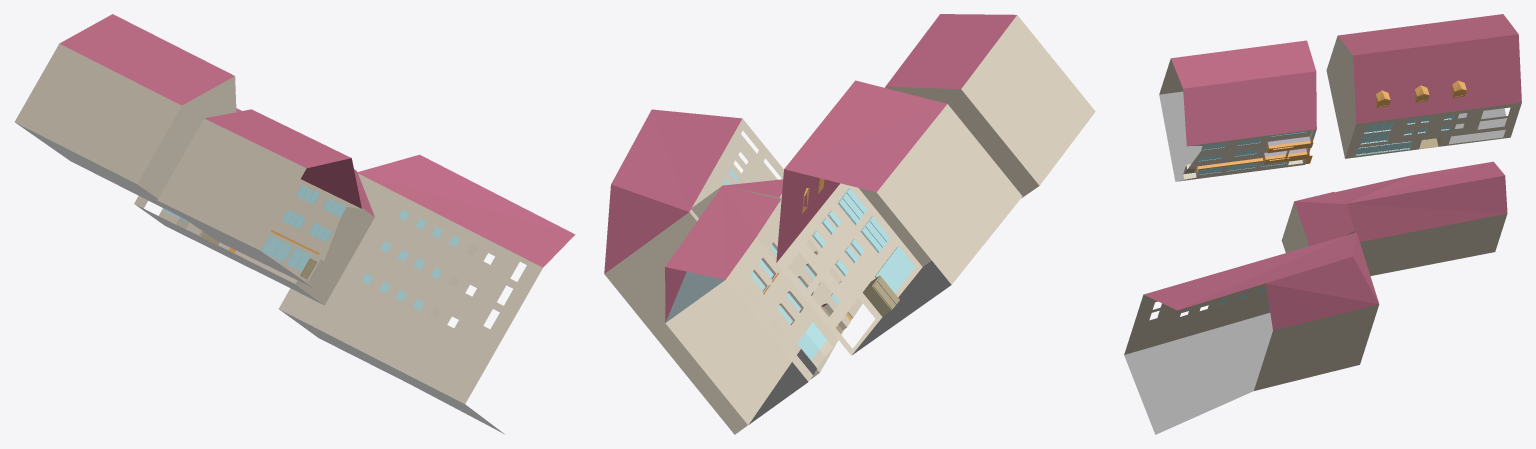
3 views of the same model, side by side, from view 1: azimuth 30°, elevation 25°; view 2: azimuth 150°, elevation 25°; view 3: azimuth 270°, elevation 25° (orthographic). The views are drawn at different scales.
Parts seen in each view (by area): view 1: mesh; view 2: mesh; view 3: mesh.
Boxes of the visible parts, x1,y1,x2,y2 form: mesh: (15,14,575,434); mesh: (604,14,1095,434); mesh: (1124,14,1521,434).
Bounding box in the file's own units: 44.5 × 35.46 × 41.4.
